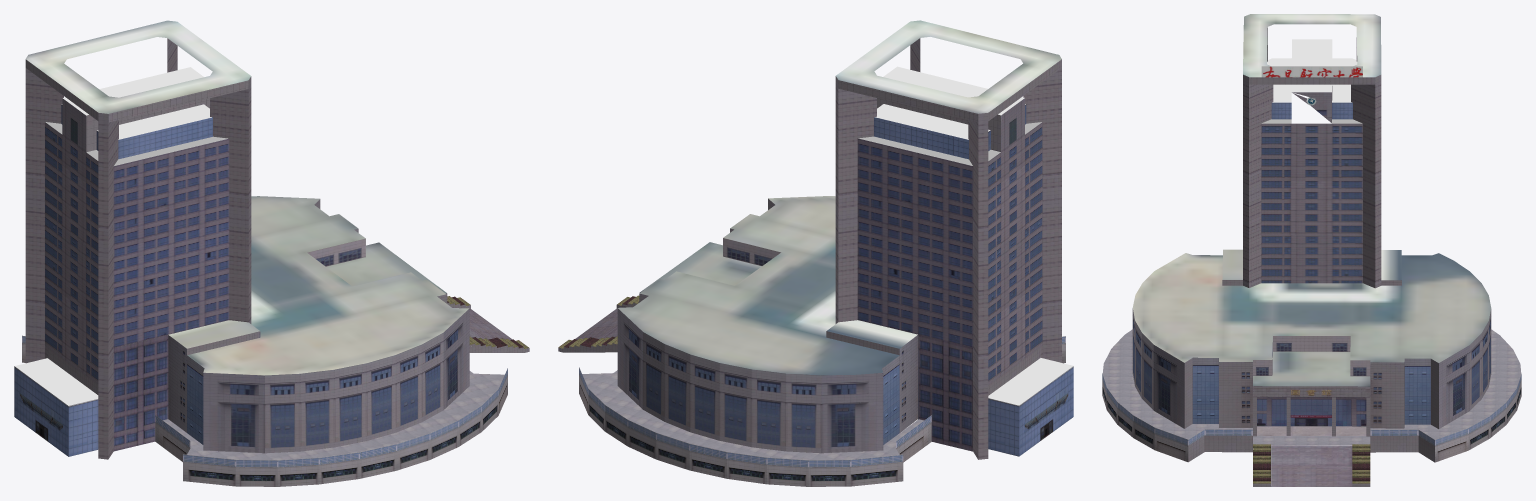
File: tsg.gltf
3 views of the same model, side by side, from view 1: azimuth 30°, elevation 25°; view 2: azimuth 150°, elevation 25°; view 3: azimuth 270°, elevation 25° (orthographic). The views are drawn at different scales.
Parts seen in each view (by area): view 1: Mesh01#40; view 2: Mesh01#40; view 3: Mesh01#40.
Part boxes in pixels (x1,y1,x2,y2): Mesh01#40: (14, 20, 529, 486); Mesh01#40: (558, 20, 1073, 486); Mesh01#40: (1102, 14, 1521, 486).
Bounding box in the file's own units: 0.1098 × 0.083 × 0.1036.
12 materials, 10 textured.
